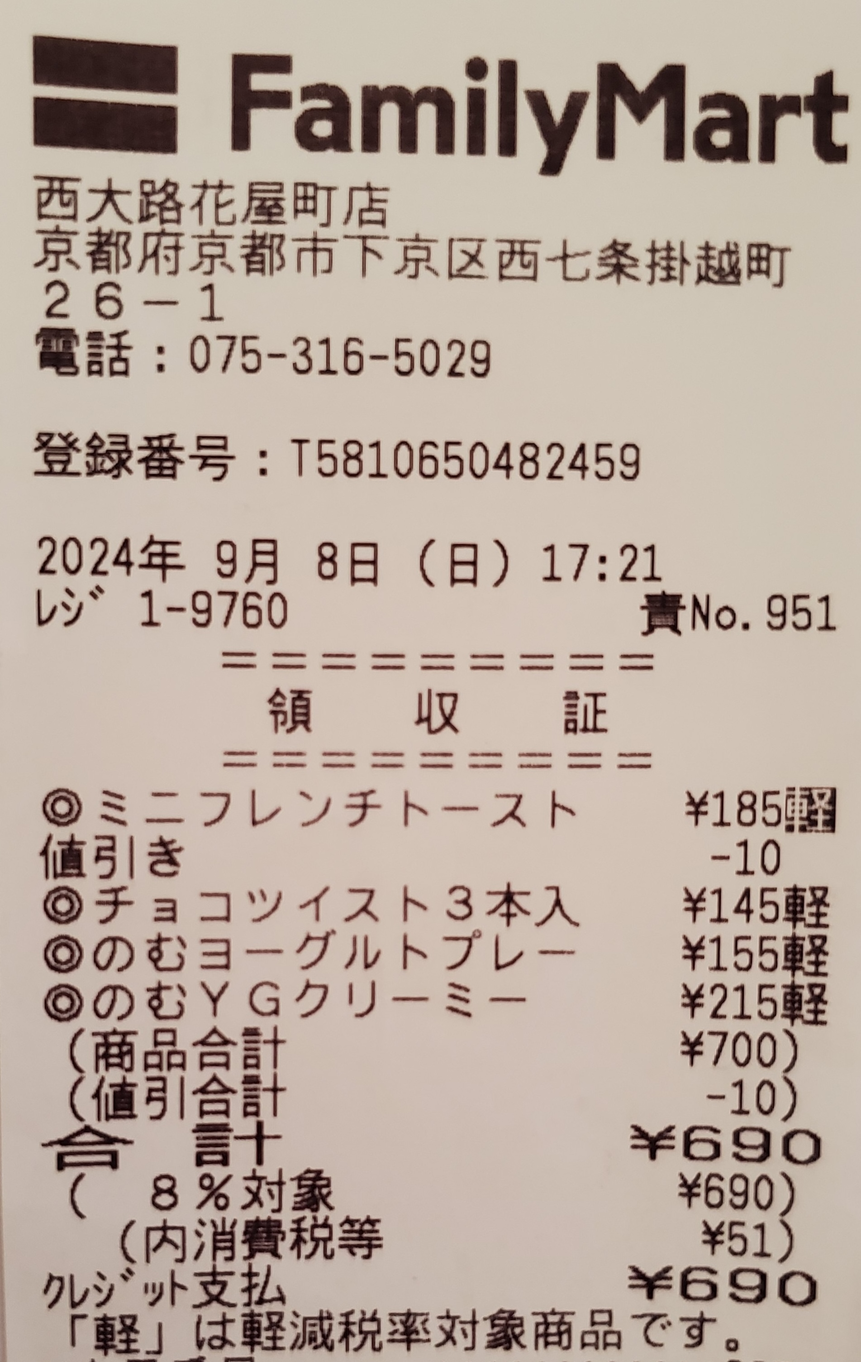Date: (32, 524, 396, 591)
Shopname: (211, 36, 861, 174)
Telnum: (185, 316, 516, 390)
Totalpay: (38, 1119, 844, 1170)
